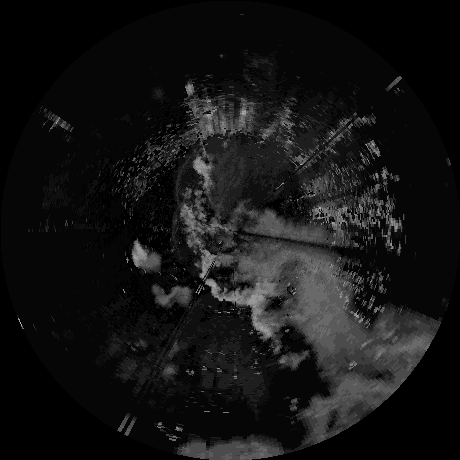frontgust: (175, 152, 194, 209), (171, 214, 180, 263)
